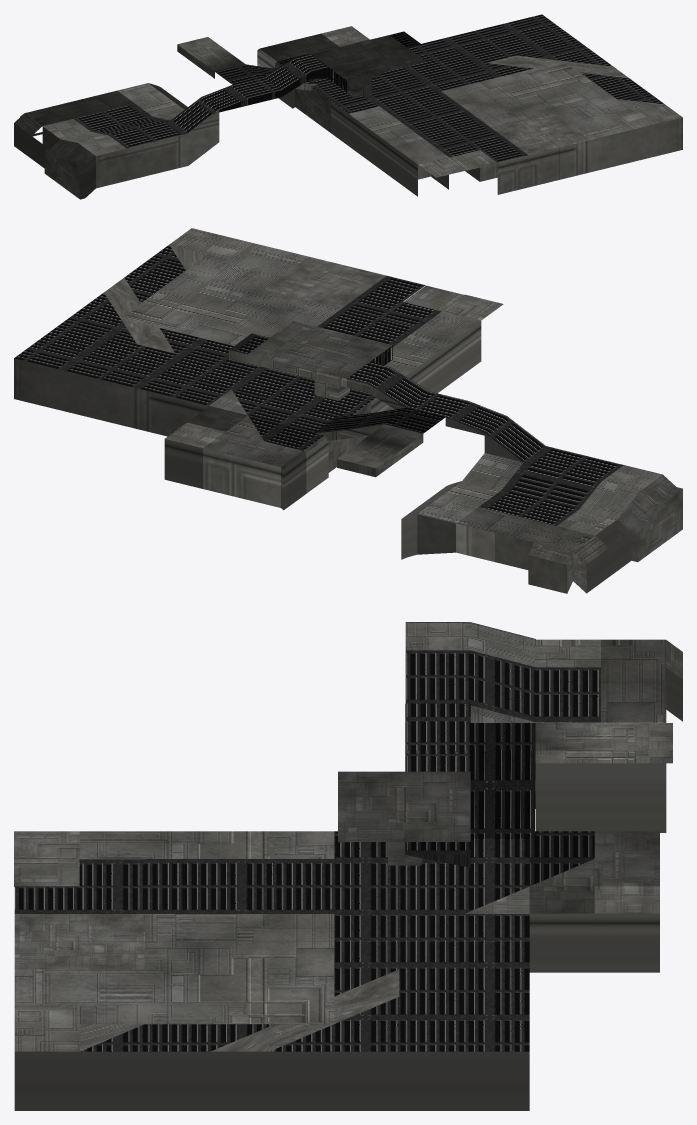
The model's file is room7.gltf.
3 views of the same model, one above another, from view 1: azimuth 30°, elevation 25°; view 2: azimuth 150°, elevation 25°; view 3: azimuth 270°, elevation 25° (orthographic). The views are drawn at different scales.
Parts seen in each view (by area): view 1: polymsh14; view 2: polymsh14; view 3: polymsh14.
Boxes of the visible parts, <box> form: polymsh14: <box>14,14,682,199</box>; polymsh14: <box>14,228,682,593</box>; polymsh14: <box>14,622,682,1110</box>.
Size of the model in its own units: 64.28 by 10 by 41.07.
3 materials, 3 textured.
